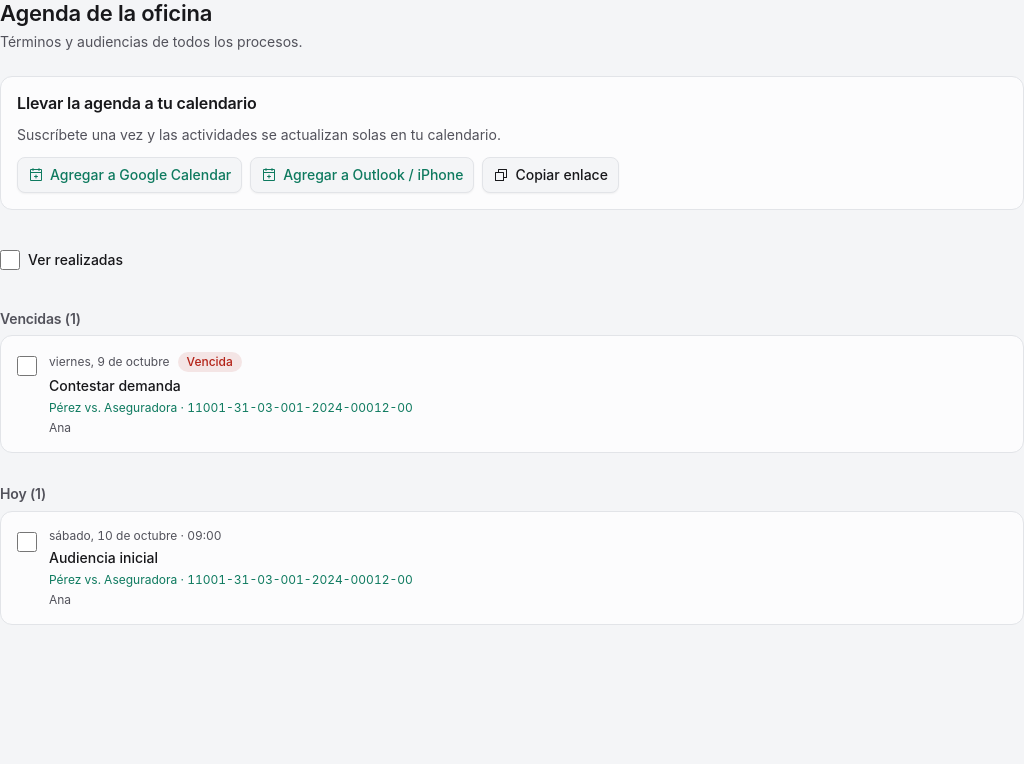
Scenario: VistaAgenda › agrupa las pendientes en vencidas y hoy, y oculta las realizadas hasta activar "Ver realizadas"
Expected: the heading "Vencidas (1)" is shown, [0,310,81,326]
Expected: the heading "Hoy (1)" is shown, [0,485,46,502]
What coordinates should you click on to do the following:
click the checkbox labelled "Ver realizadas"
I would click on:
 (10, 260)
Its box is [0,250,20,270].
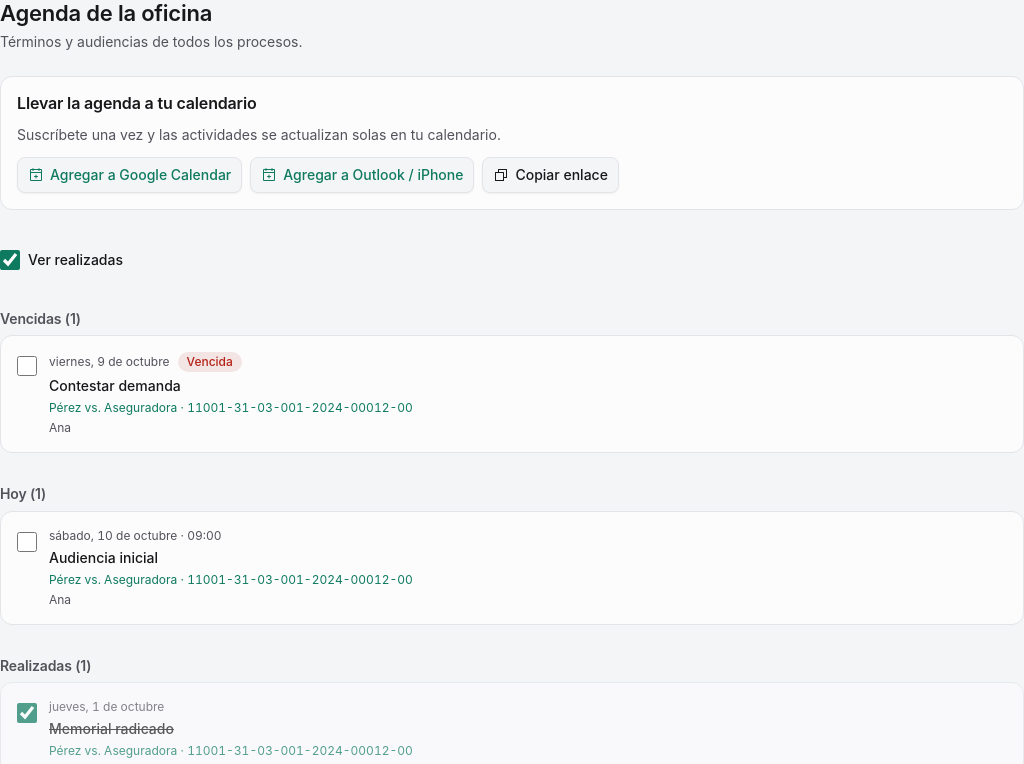
Expected: the text "Memorial radicado" is shown, [49,720,174,737]
